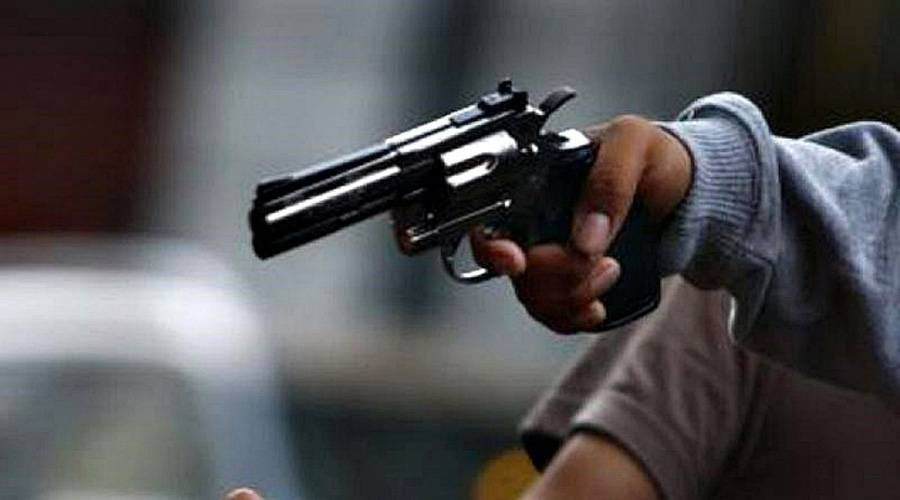Arma Real: (246, 74, 673, 339)
